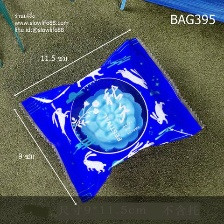snack: (11, 31, 210, 208)
